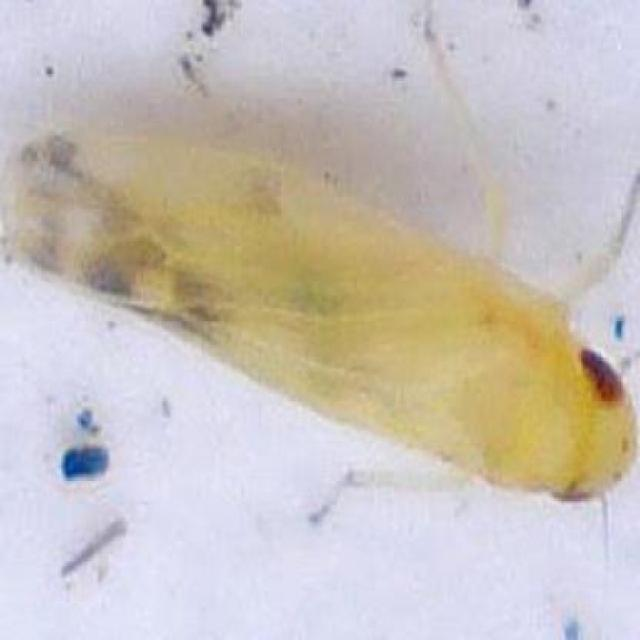green-leafhopper: (11, 122, 640, 500)
